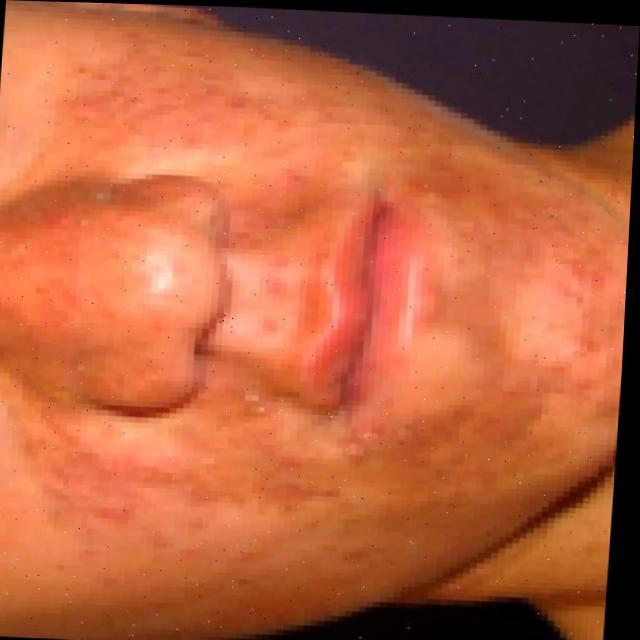Melasma: (88, 395, 475, 608), (40, 66, 366, 186), (463, 185, 618, 368)
